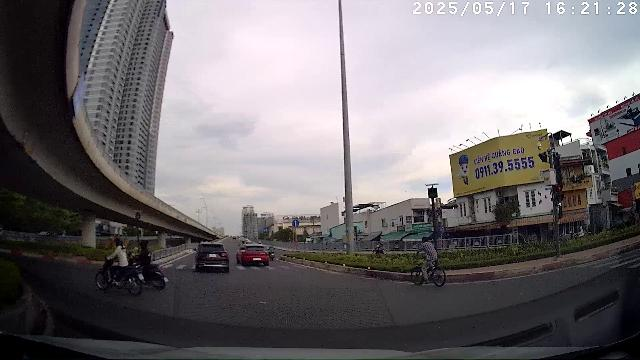301a-cac-xe-chi-duoc-di-thang: (292, 219, 300, 227)
